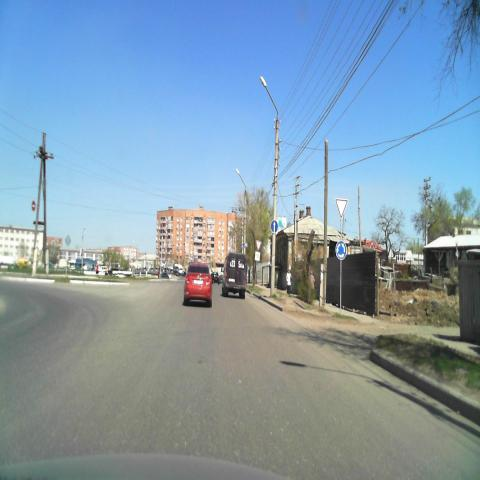4_3: (335, 240, 347, 260)
